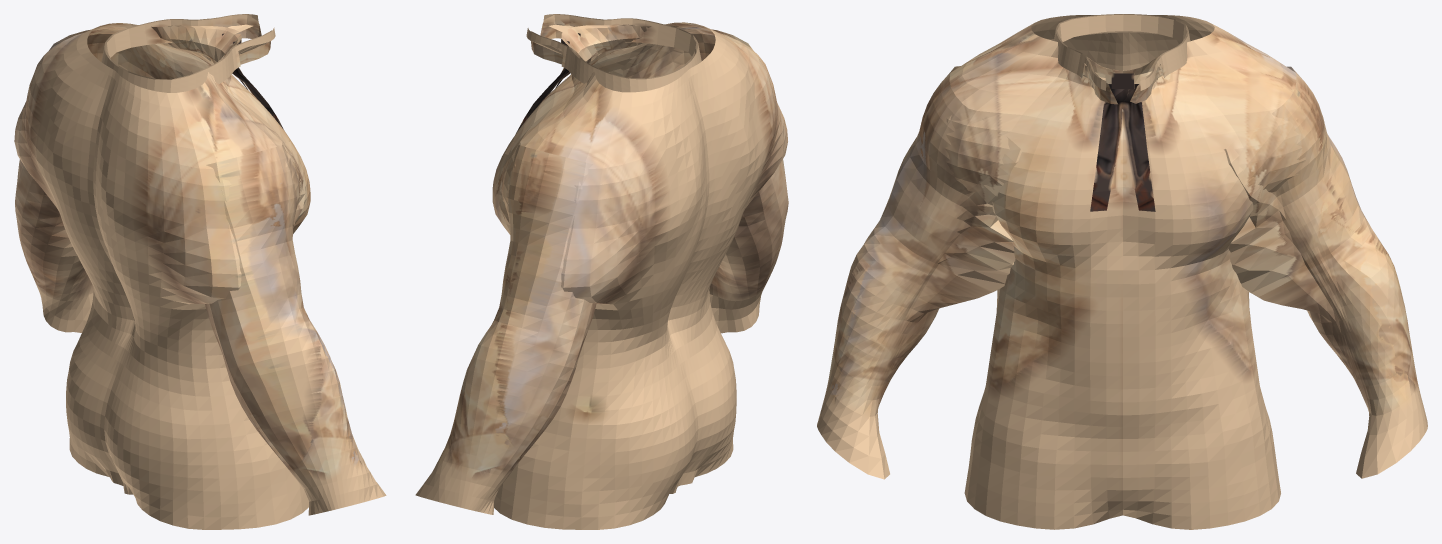
The model's file is bold_cowboy_made_shirt.glb.
3 renders of one model, left to right at view 1: azimuth 30°, elevation 25°; view 2: azimuth 150°, elevation 25°; view 3: azimuth 270°, elevation 25°, orthographic. The views are drawn at different scales.
Parts seen in each view (by area): view 1: shirt; view 2: shirt; view 3: shirt.
Part boxes in pixels (x1,y1,x2,y2): shirt: [14, 14, 386, 529]; shirt: [415, 14, 788, 529]; shirt: [817, 14, 1427, 529].
Bounding box in the file's own units: 0.1867 × 0.3892 × 0.4831.
1 material, 1 textured.
